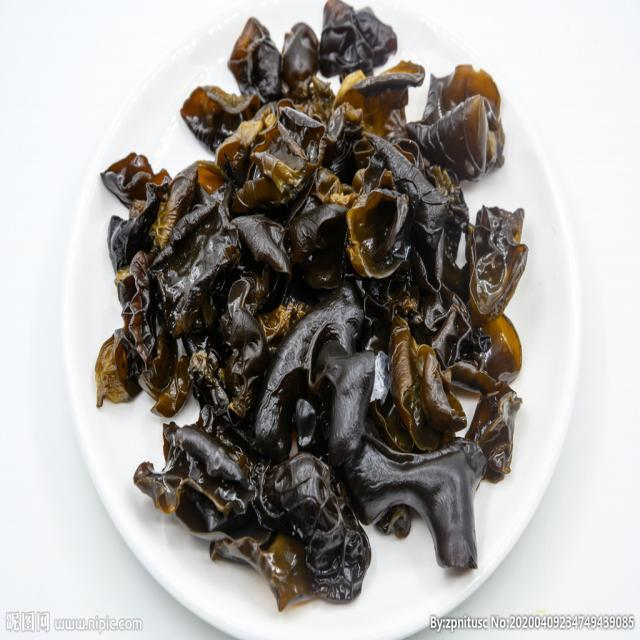Auricularia auricula: (103, 0, 528, 614)
